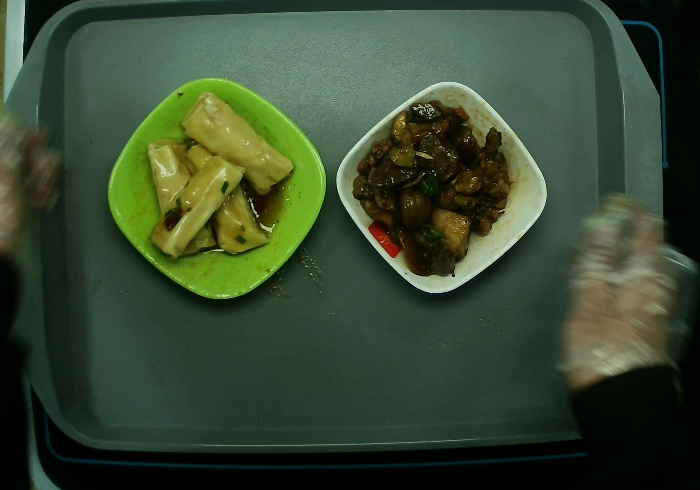SHKJ-Bai_Se_Xiao_Fang_Die: (335, 80, 550, 301)
SHKJ-Lv_Se_Cai_Die: (106, 74, 329, 302)
